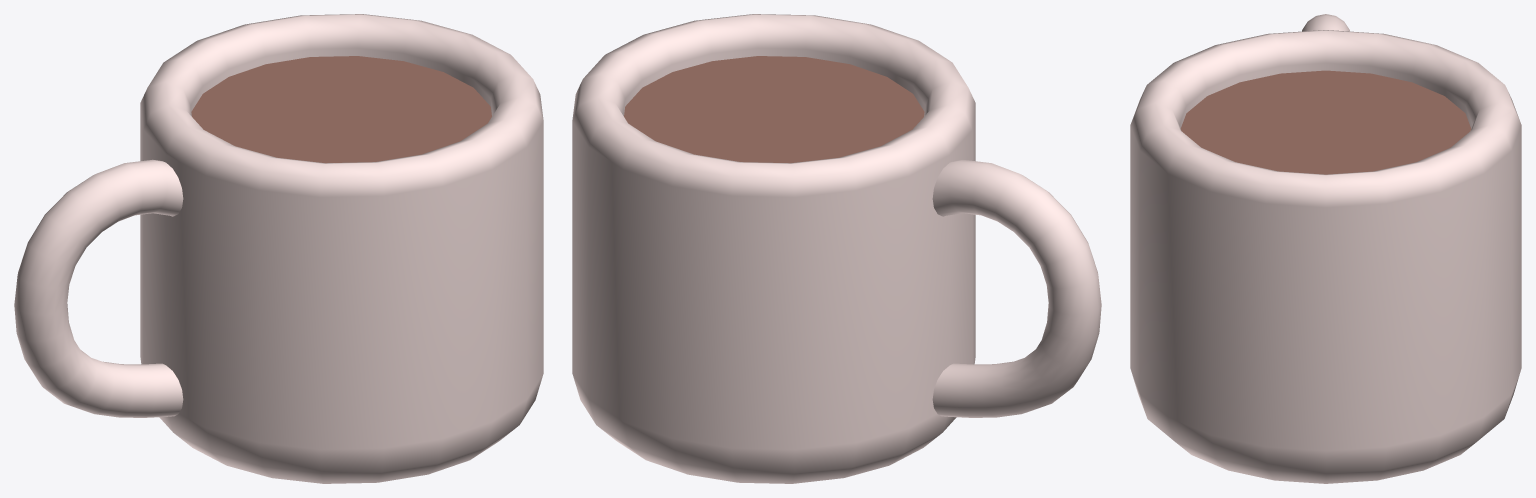
Rendered from Store_18_Cup_4.glb.
3 renders of one model, left to right at view 1: azimuth 30°, elevation 25°; view 2: azimuth 150°, elevation 25°; view 3: azimuth 270°, elevation 25°, orthographic. The views are drawn at different scales.
Visible parts, largest first — view 1: Store_18_Cup_4; view 2: Store_18_Cup_4; view 3: Store_18_Cup_4.
Boxes of the visible parts, x1,y1,x2,y2 form: Store_18_Cup_4: (14,14,543,483); Store_18_Cup_4: (572,14,1101,483); Store_18_Cup_4: (1130,14,1521,483).
Size of the model in its own units: 0.2701 by 0.17 by 0.1898.
Materials: 1 (1 with a texture image).
